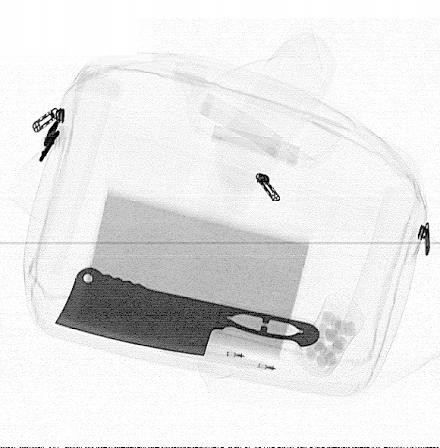Knife: (52, 266, 321, 359)
